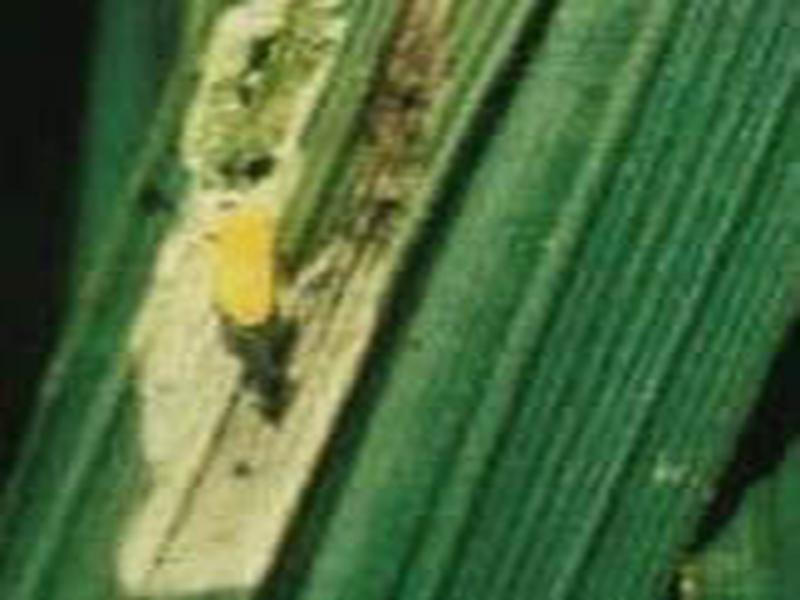Gall_midge: (193, 177, 311, 356)
